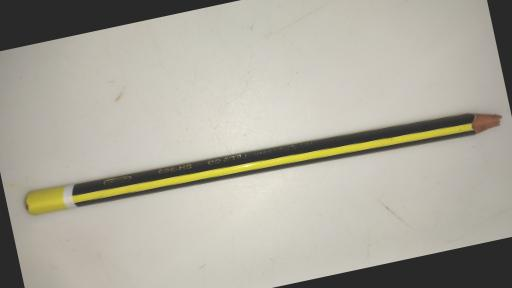Pencil: (16, 92, 506, 230)
